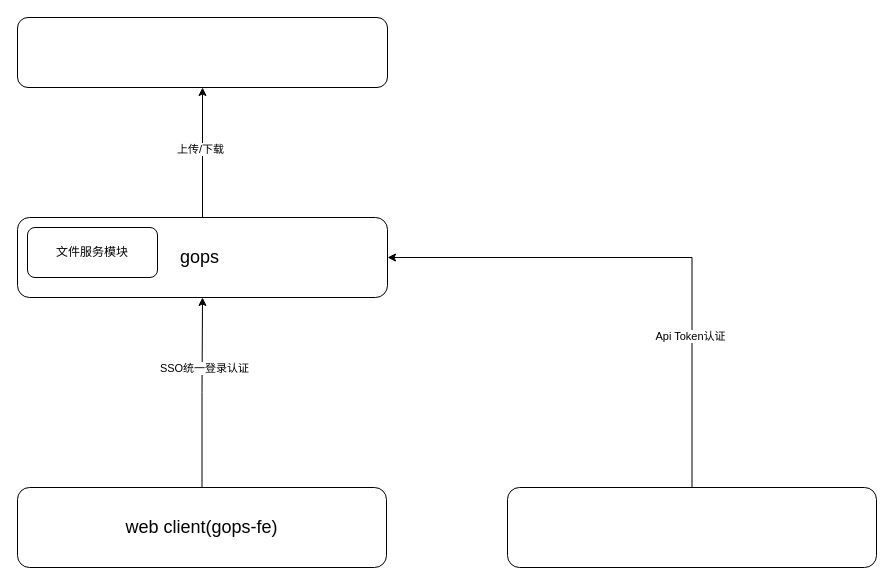
This 894x585 diagram has some shape labels left out. Each missing label, with the centre of its shape:
cli client(fput、fget): point (691, 527)
阿里云OSS: point (202, 52)
